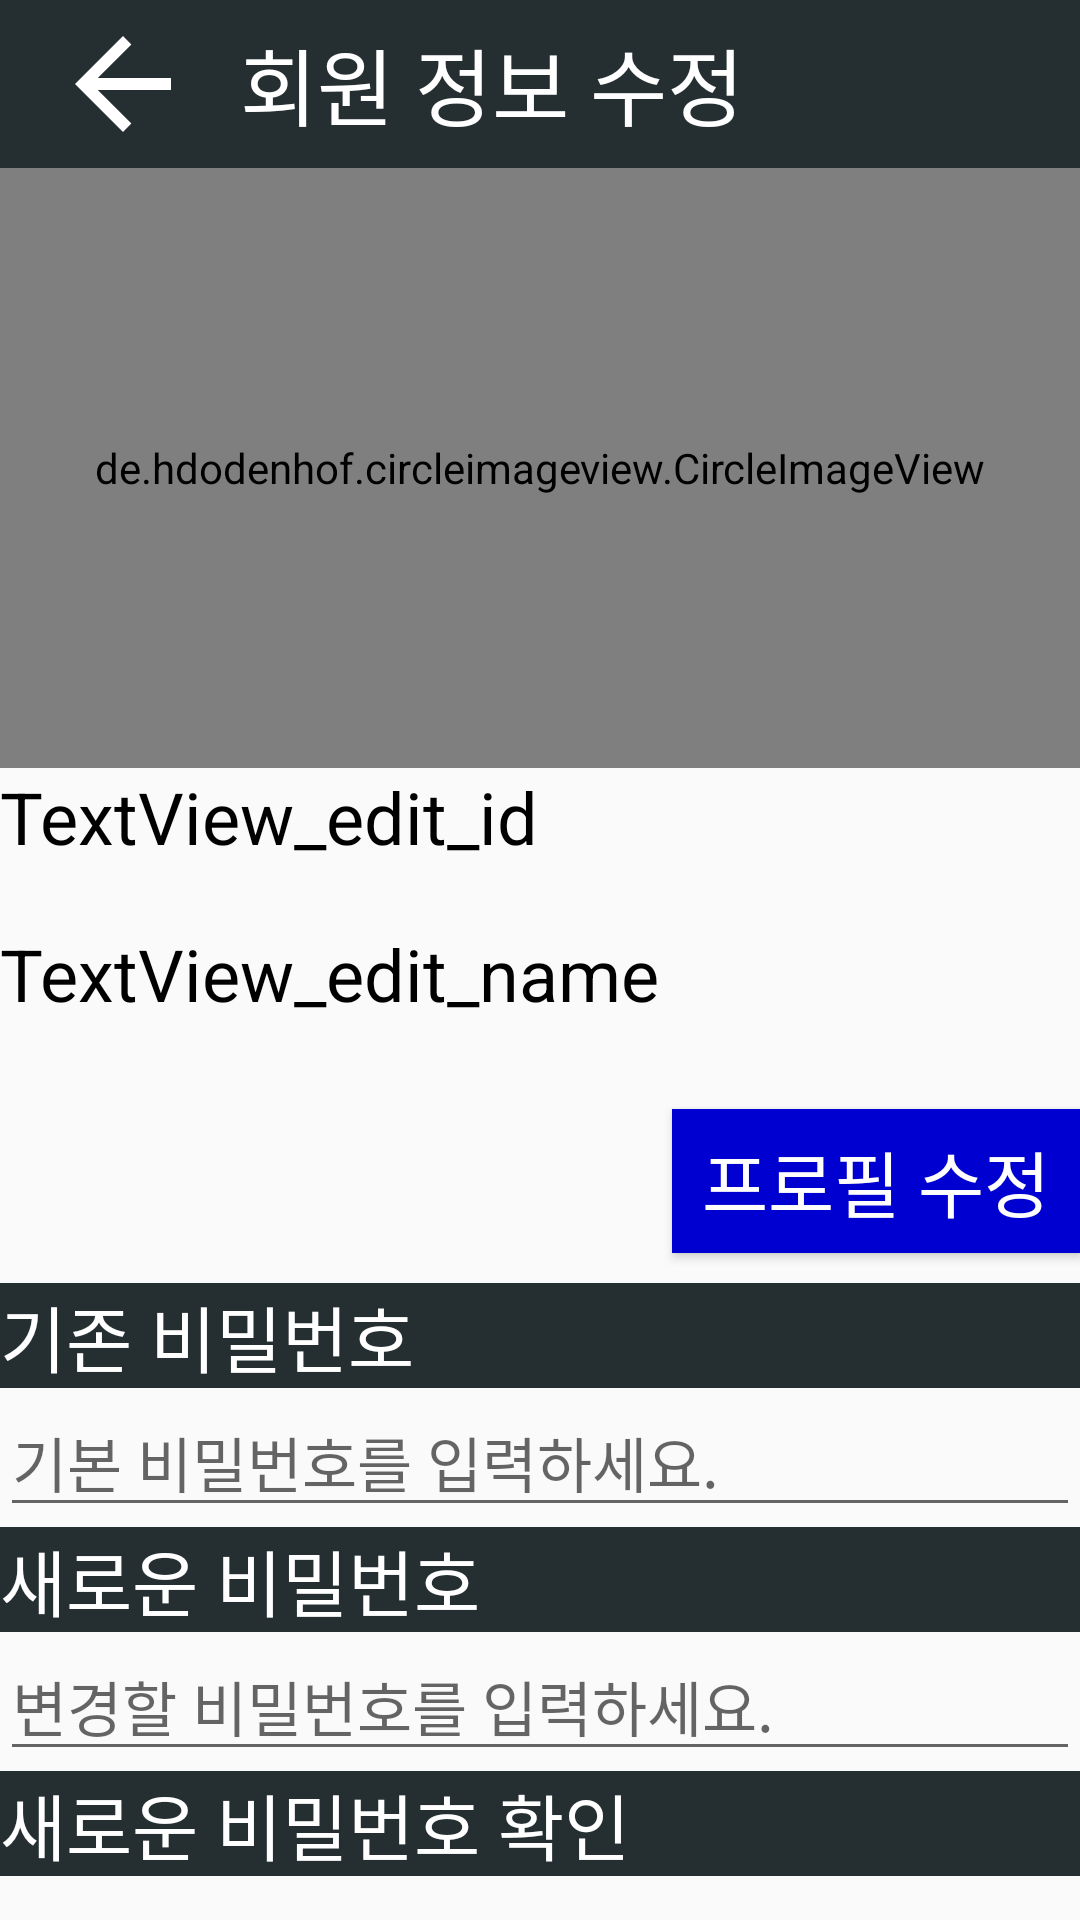

Where to tap for icons on this 1080×1920 app screen, as point (x, y):
back toolbar: point (123, 84)
